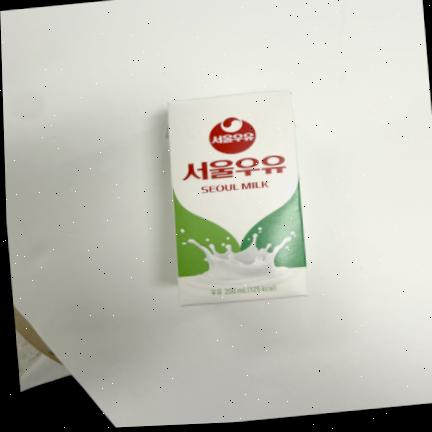milk_green: (164, 89, 309, 307)
